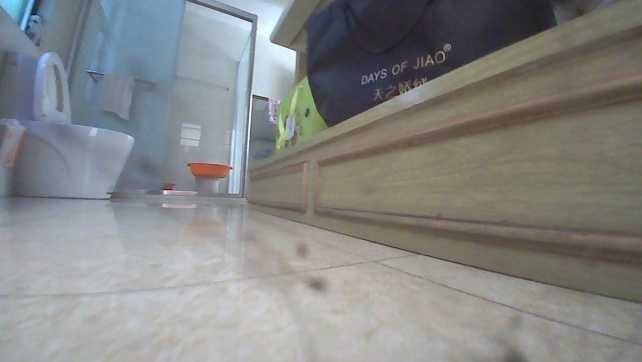toilet: (0, 47, 140, 202)
